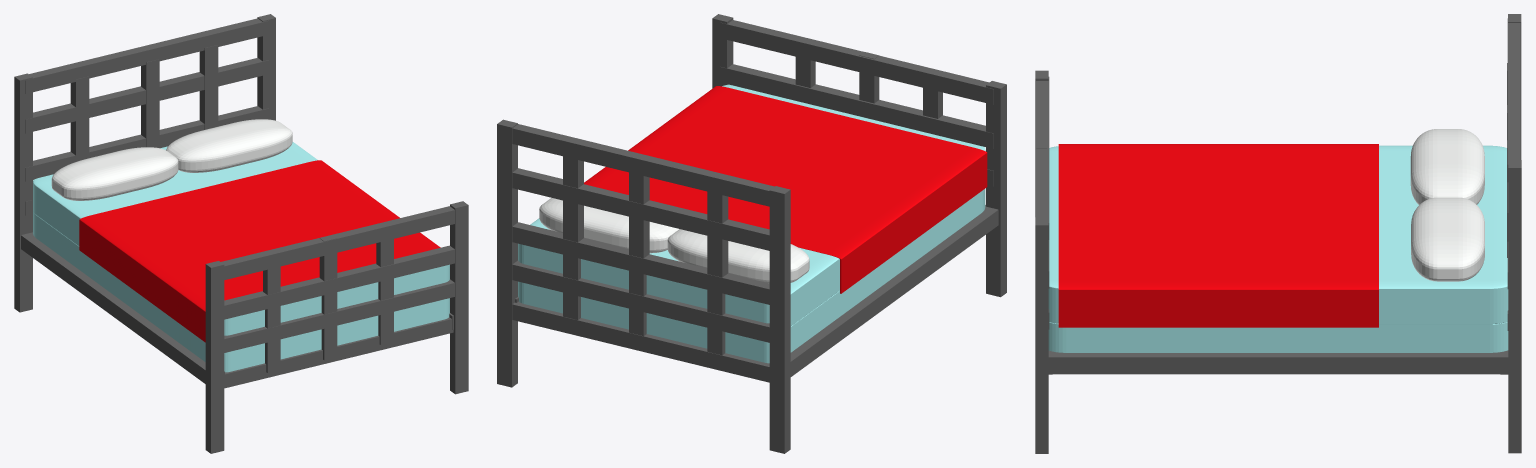
File: bed blender.fbx
3 renders of one model, left to right at view 1: azimuth 30°, elevation 25°; view 2: azimuth 150°, elevation 25°; view 3: azimuth 270°, elevation 25°, orthographic. The views are drawn at different scales.
Visible parts, largest first — view 1: Cube.005, Cube.001, Cube.011; view 2: Cube.005, Cube.001, Cube.011; view 3: Cube.001, Cube.005, Cube.011.
Part boxes in pixels (x1,y1,x2,y2): Cube.005: (14, 14, 468, 453); Cube.001: (33, 142, 449, 372); Cube.011: (51, 119, 292, 200); Cube.005: (497, 14, 1006, 453); Cube.001: (518, 84, 987, 363); Cube.011: (539, 197, 809, 283); Cube.001: (1048, 144, 1508, 352); Cube.005: (1035, 14, 1521, 453); Cube.011: (1410, 129, 1484, 281).
Bounding box in the file's own units: 185 × 160 × 246.
